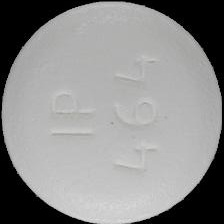49999-097: (0, 0, 224, 224)
